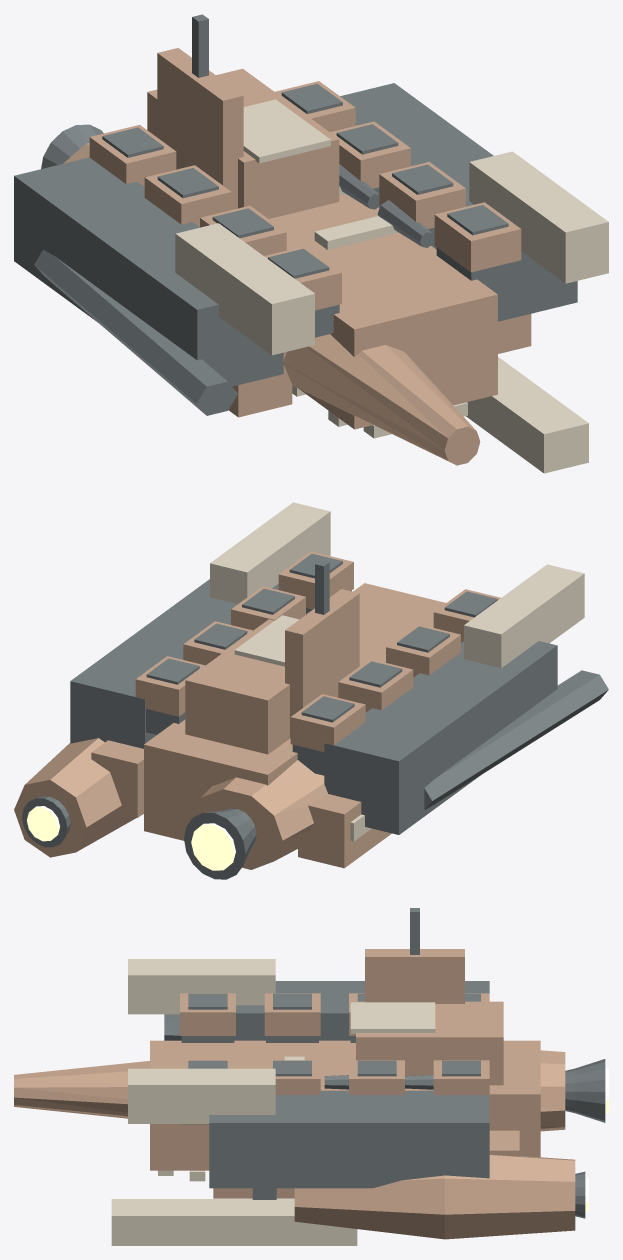
3 views of the same model, one above another, from view 1: azimuth 30°, elevation 25°; view 2: azimuth 150°, elevation 25°; view 3: azimuth 270°, elevation 25° (orthographic). The views are drawn at different scales.
Size of the model in its own units: 14.4 by 11.06 by 22.53.
